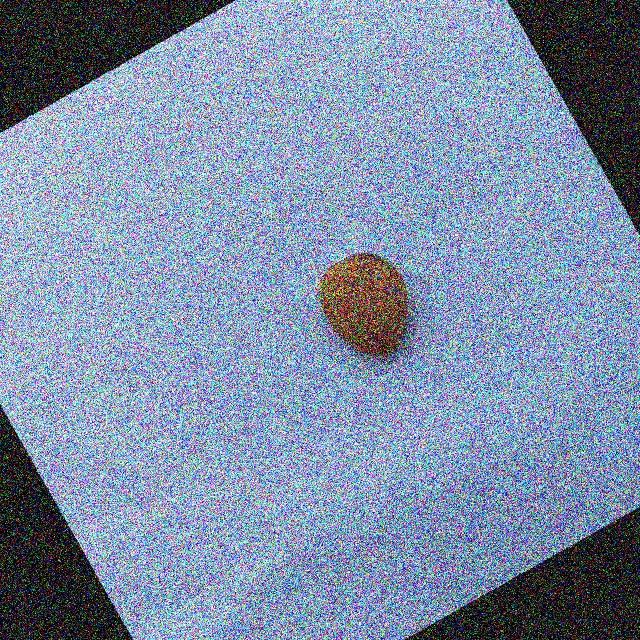grade1: (293, 230, 442, 385)
